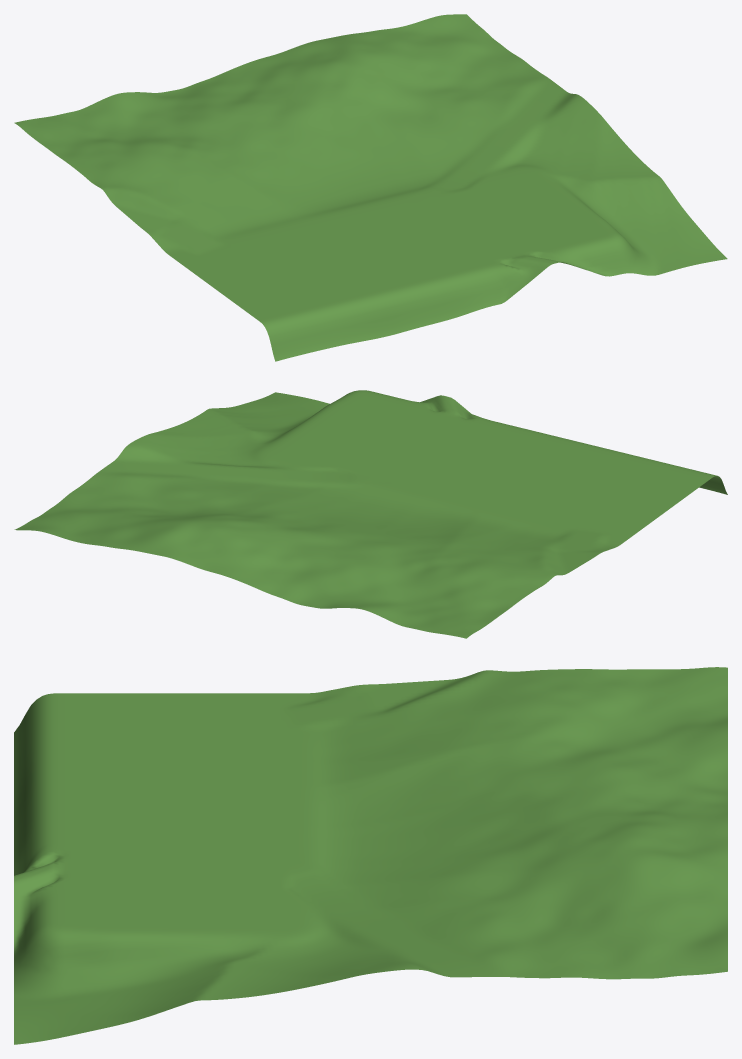
File: SM_Terrain_04_06.fbx
3 renders of one model, top to bottom at view 1: azimuth 30°, elevation 25°; view 2: azimuth 150°, elevation 25°; view 3: azimuth 270°, elevation 25°, orthographic. The views are drawn at different scales.
Parts seen in each view (by area): view 1: SM_Terrain_04_06; view 2: SM_Terrain_04_06; view 3: SM_Terrain_04_06.
Boxes of the visible parts, x1,y1,x2,y2 form: SM_Terrain_04_06: (14, 14, 727, 361); SM_Terrain_04_06: (14, 390, 727, 638); SM_Terrain_04_06: (14, 667, 727, 1044).
Bounding box in the file's own units: 384 × 56.68 × 384.
